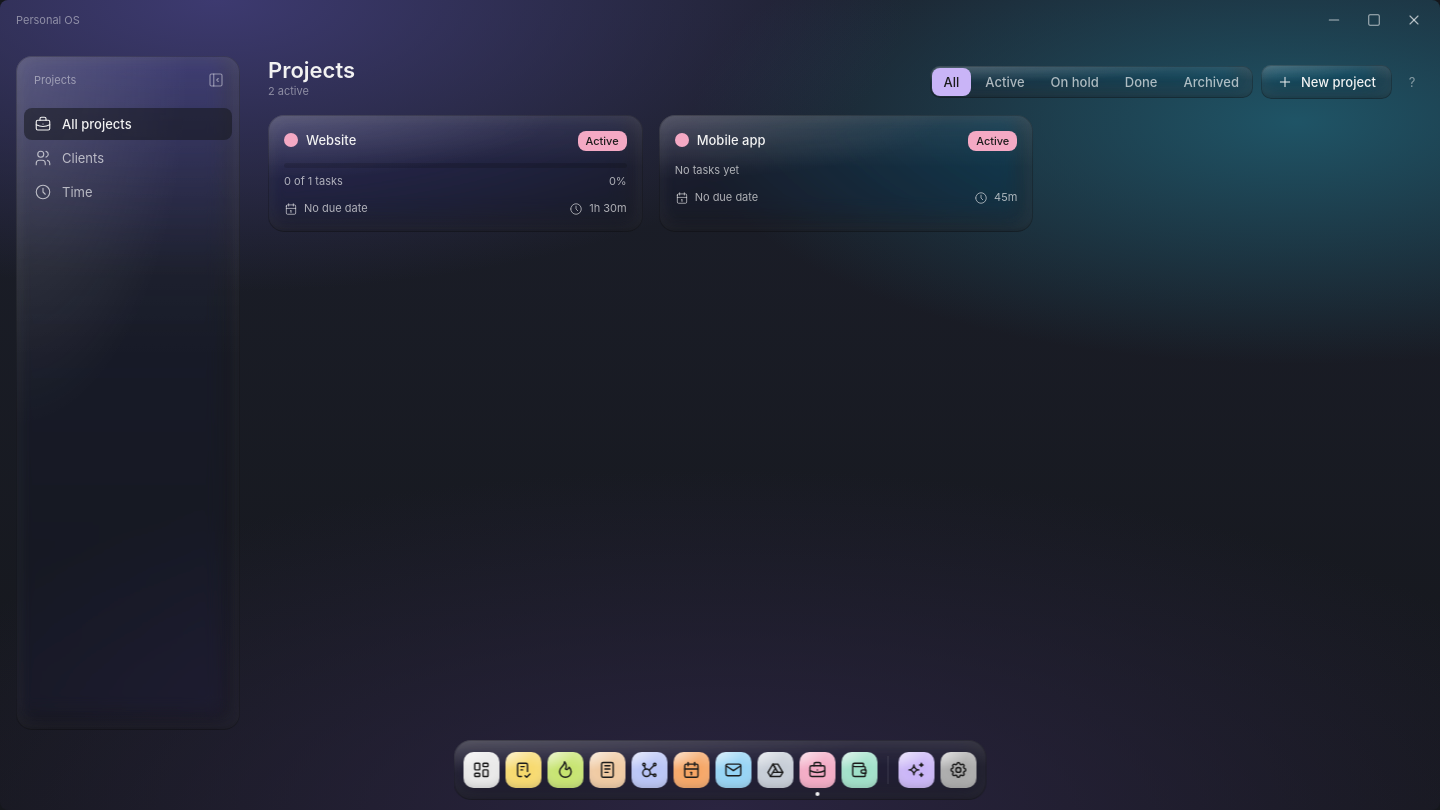
it: Time tab of a project › lists the entries of the project with the total
Click the button "Website".
click(331, 140)  # box x1=306 y1=131 x2=570 y2=150
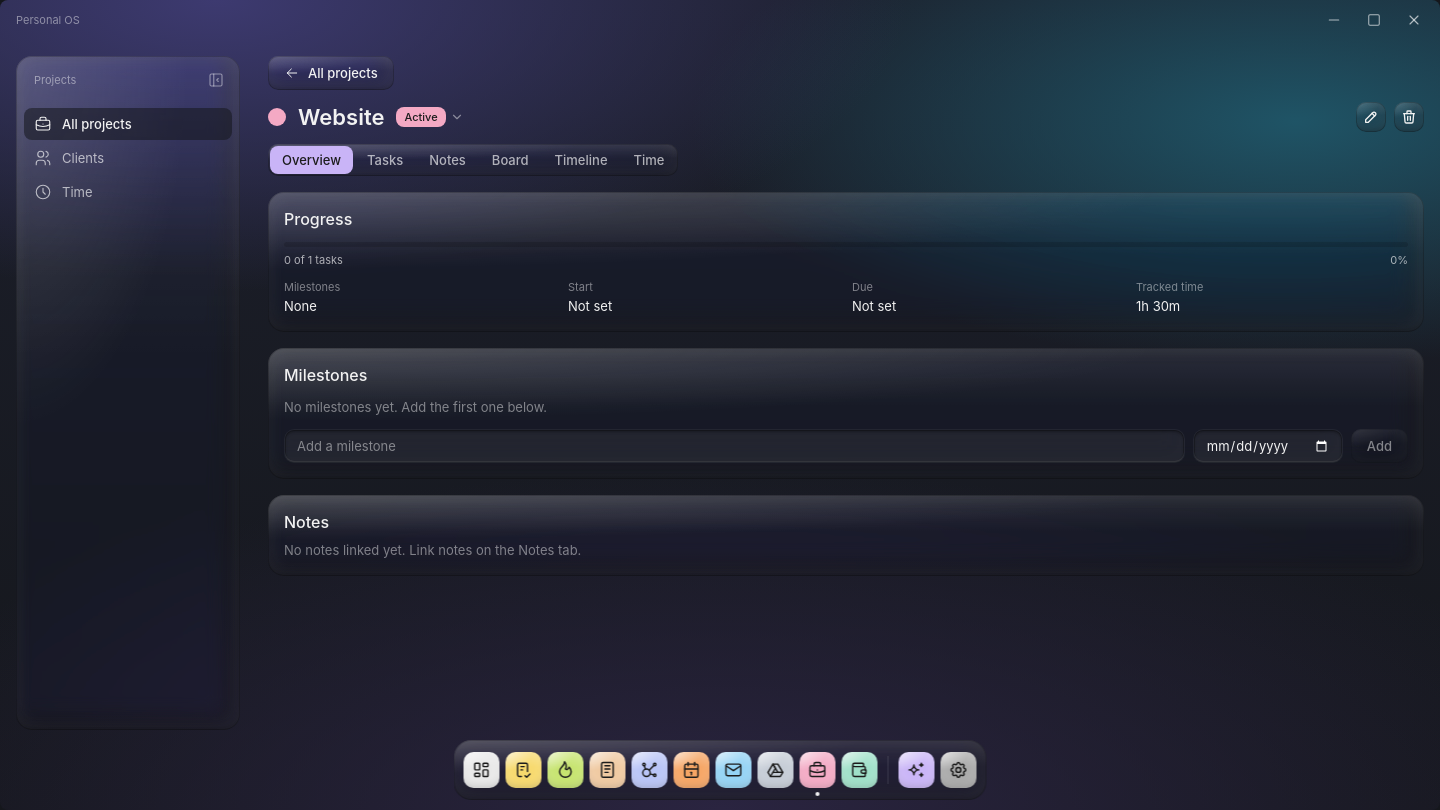
expect the heading "Website" is shown: met, box x1=298 y1=103 x2=384 y2=131
Click the radio button labelled "Time".
click(649, 160)  # box x1=622 y1=146 x2=676 y2=174
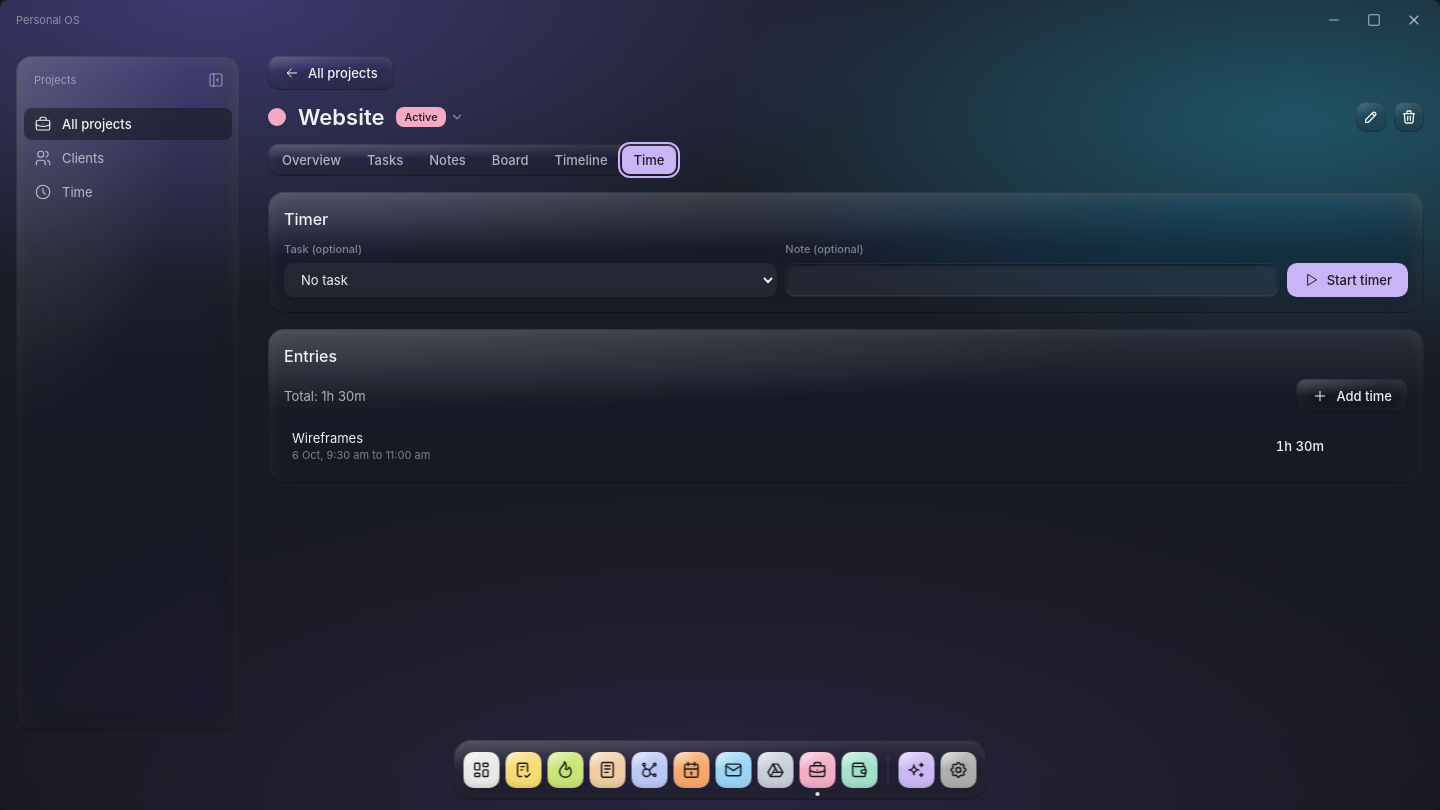
expect the text "Total: 1h 30m" is shown: met, box x1=284 y1=386 x2=366 y2=406
expect the text "Wireframes" is shown: met, box x1=292 y1=430 x2=363 y2=446
expect the text "1h 30m" is shown: met, box x1=1276 y1=436 x2=1324 y2=456
